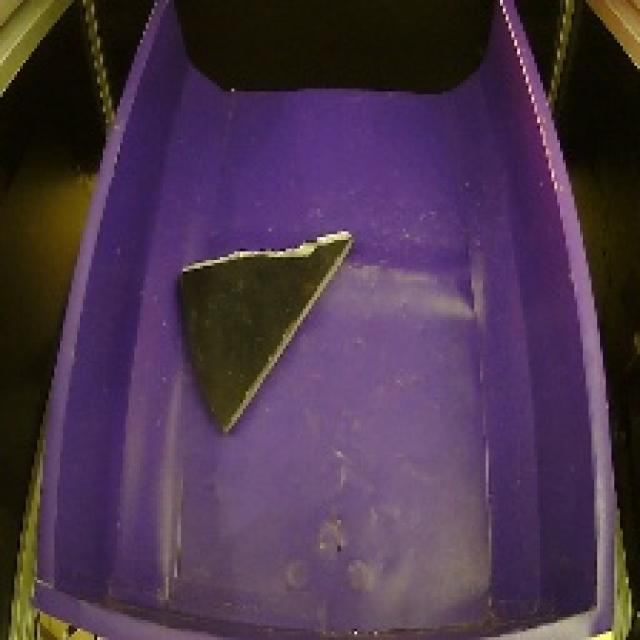china: (166, 215, 362, 449)
